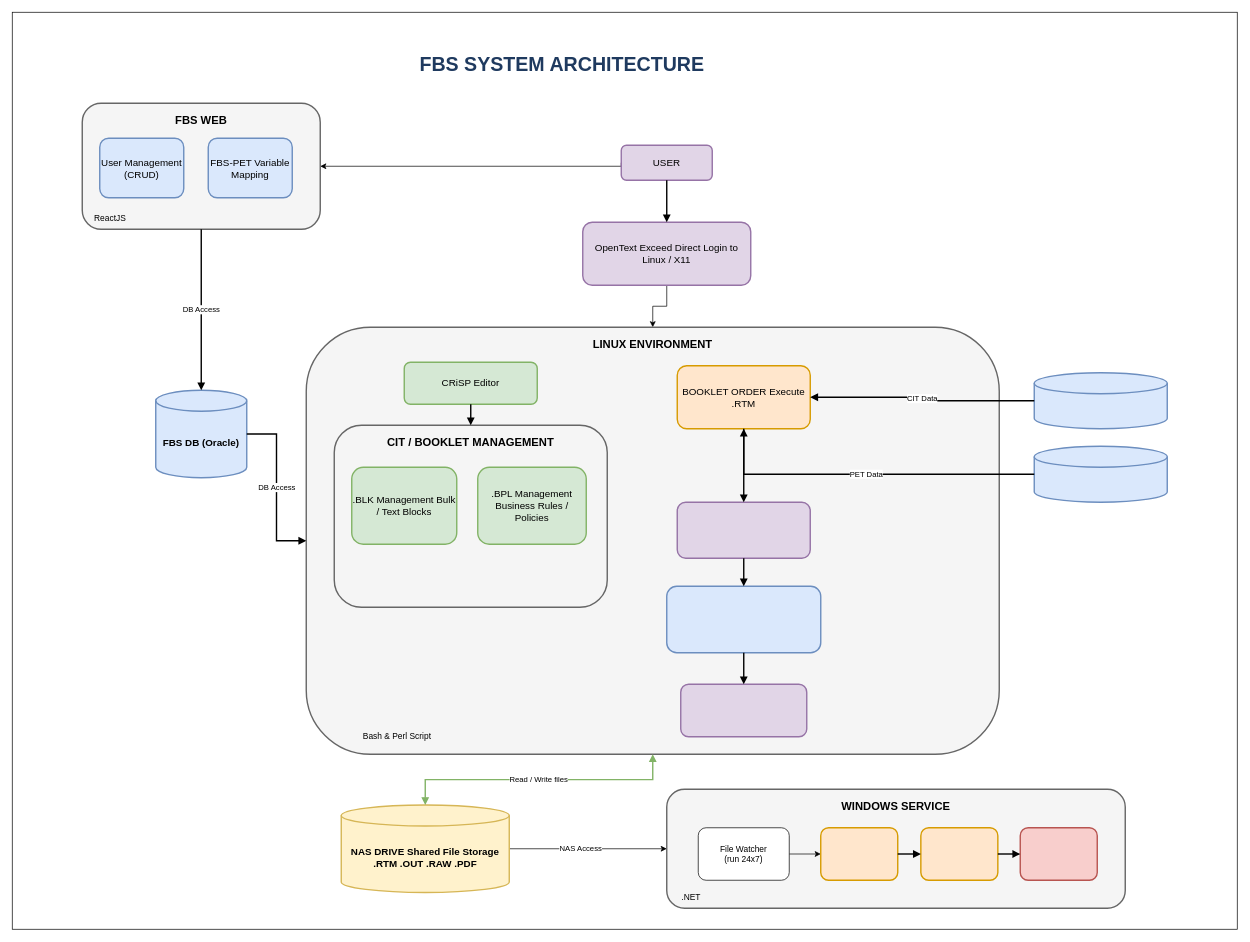
The diagram is 1250 pixels wide and 942 high, and some of its shapes have lost their labels. Here are the shapes that lost their labels. From the top down, the centre of each, then its label:
At point (1100, 400): "CIT DATABASE (Oracle)".
At point (1100, 474): "PET DATABASE (Oracle)".
At point (743, 530): ".OUT File Booklet Order Output".
At point (743, 619): "ASSEMBLER .OUT Replace block references with actual text from .OUT file".
At point (743, 710): ".RAW File Assembled Output".
At point (859, 854): "Pickup .RAW from NAS".
At point (959, 854): "Process".
At point (1058, 854): "Generate .PDF".
